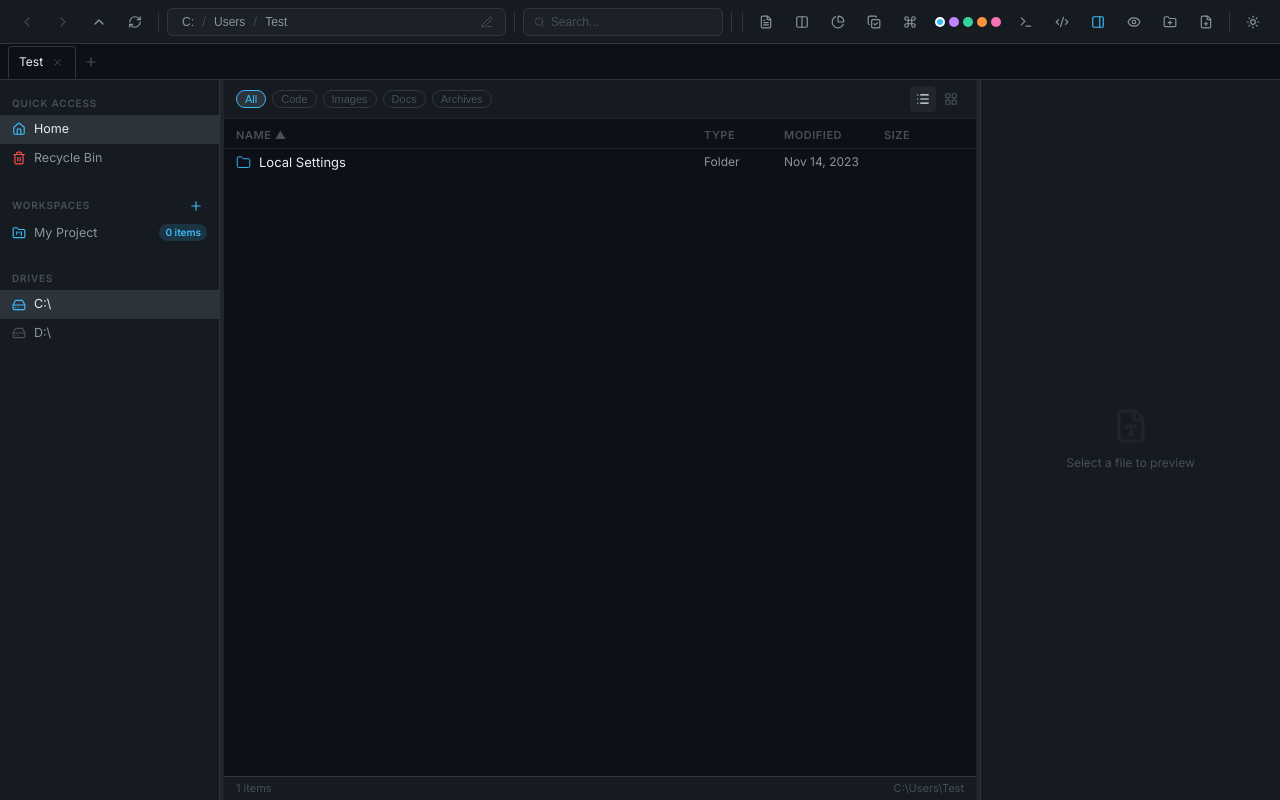
Test: App Component Full Integration Suite › seamlessly handles symlink / junction target resolution without path bouncing
// Double click the junction
Click the text "Local Settings" at (302, 162), box [259, 152, 346, 172]
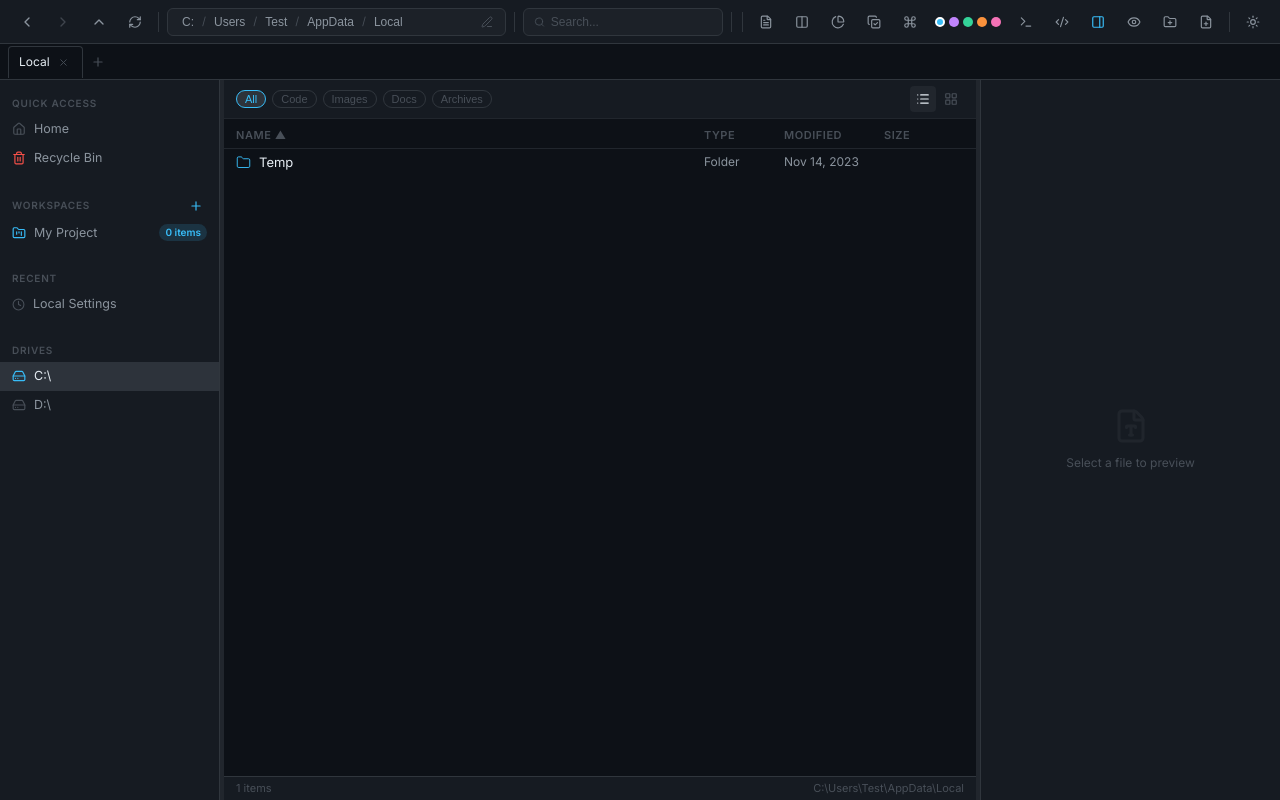
Expected: the text "Temp" is shown, [259, 152, 293, 172]
